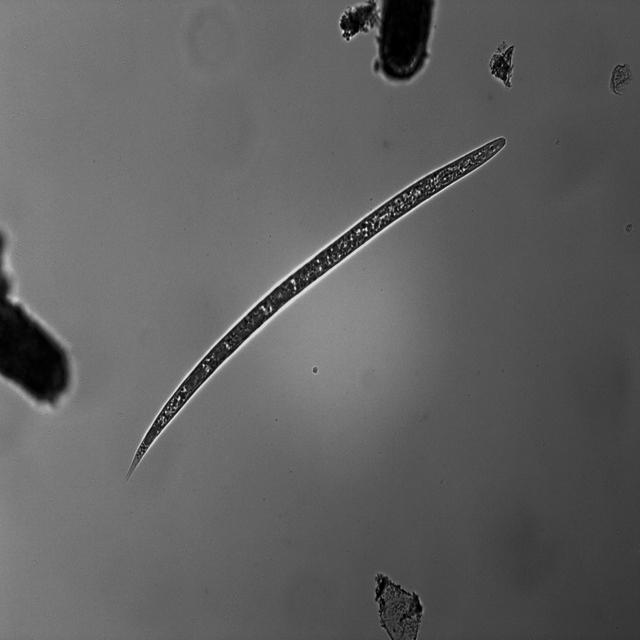Meloidogyne: (121, 136, 511, 484)
